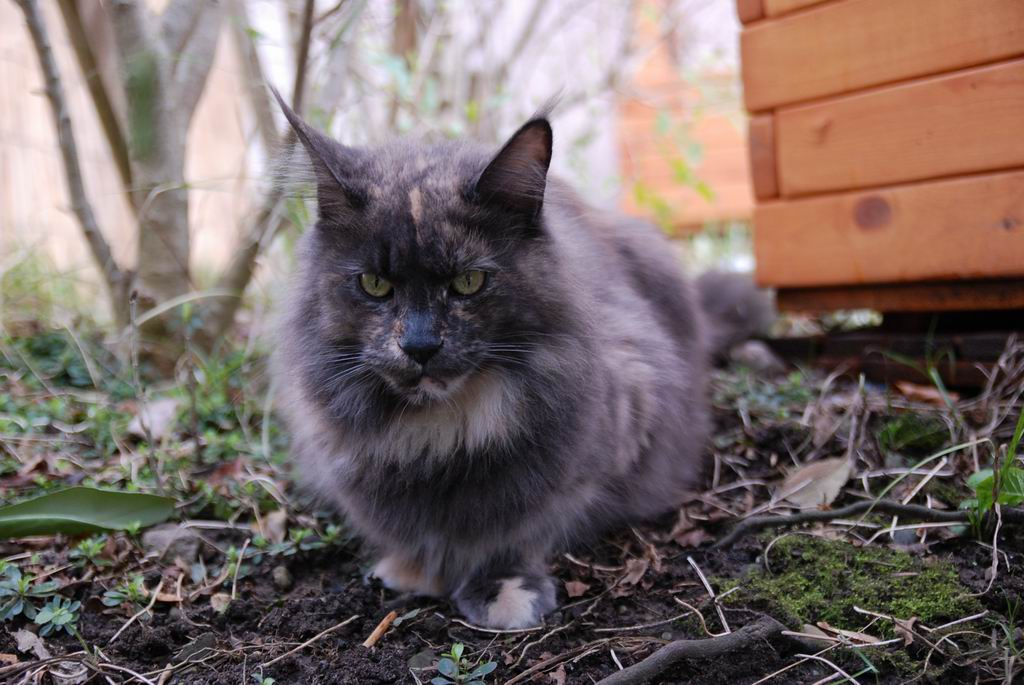cat: (263, 75, 712, 636)
